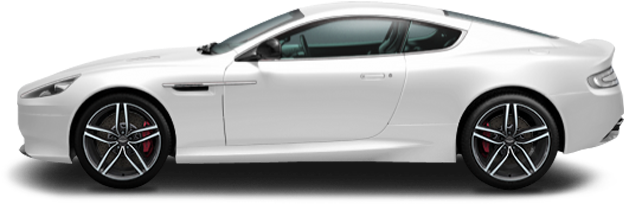car: (16, 2, 623, 193)
